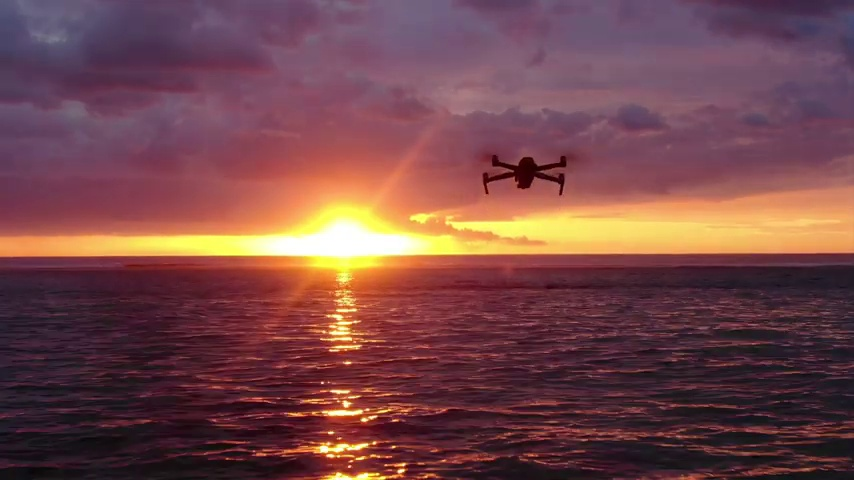drone: (482, 153, 567, 199)
